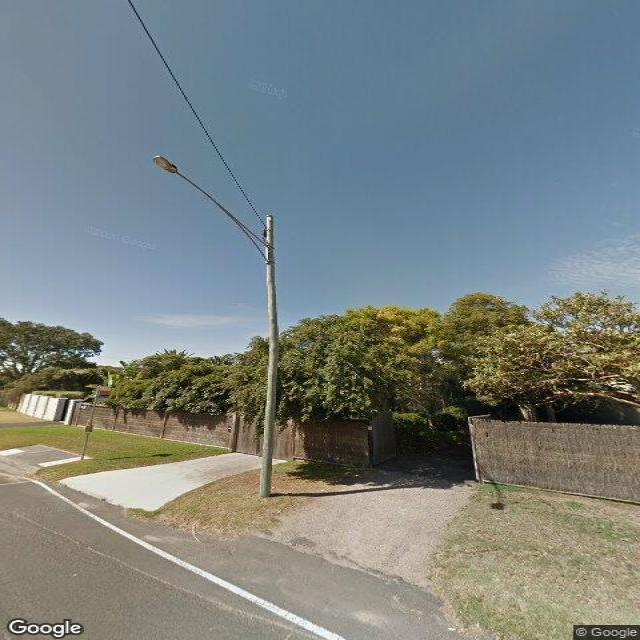streetlight: (153, 154, 274, 266)
timber-pole: (257, 214, 277, 498)
top mount suitable pole: (151, 152, 278, 500)
